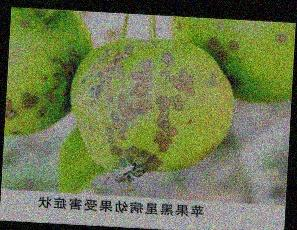rotten apple: (67, 39, 235, 176), (6, 9, 93, 139), (169, 19, 292, 101)
